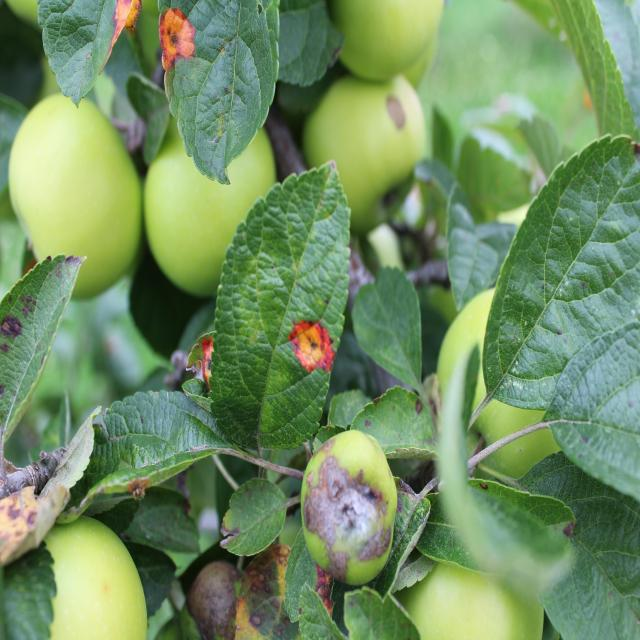Rust: (280, 299, 340, 394), (147, 1, 201, 86), (91, 0, 151, 56)
